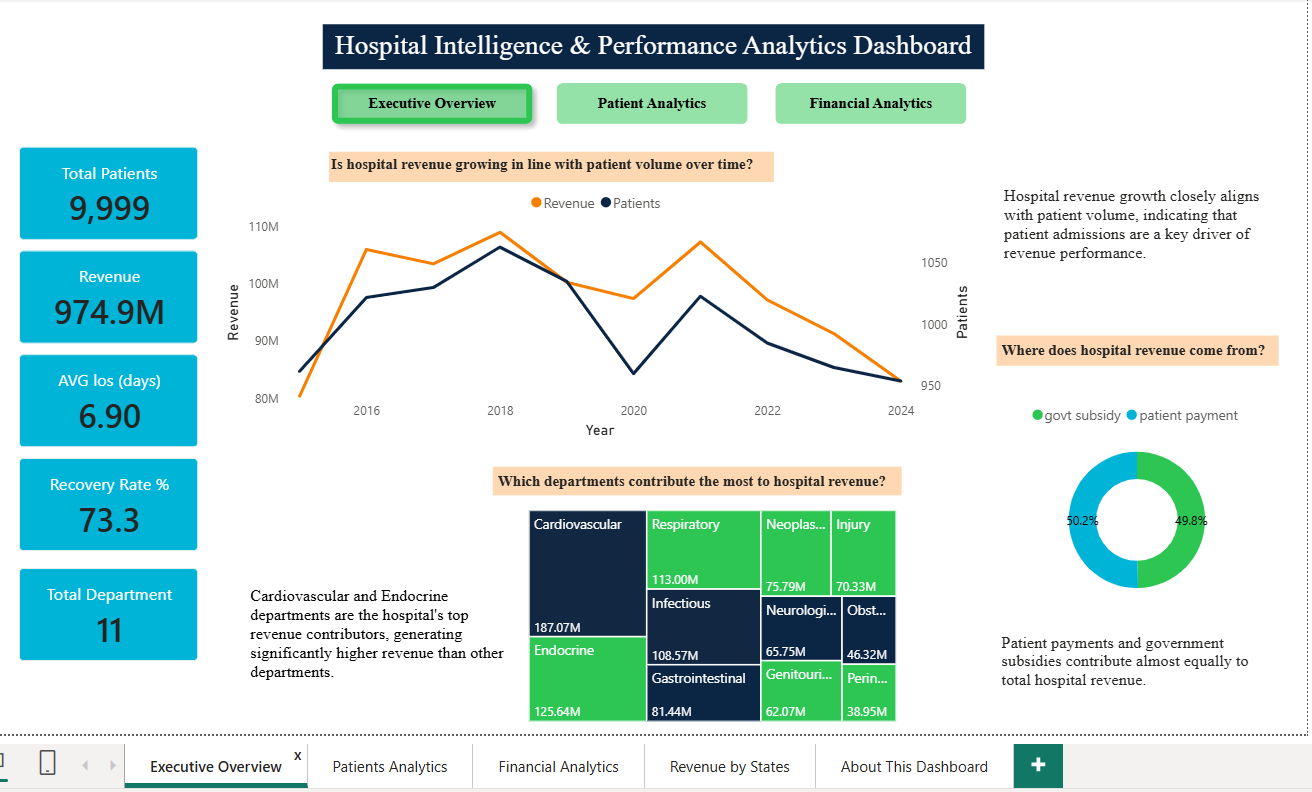

What the dashboard file says about the page in this screenshot:
{"tool":"powerbi","page":{"name":"Executive Overview","canvas":[1280,720],"ordinal":0},"visuals":[{"type":"textbox","box":[316.7,25.7,646.9,44],"z":0},{"type":"cardVisual","fields":{"Data":["public hospital_data.Total Patients"]},"box":[14.7,140.6,185.9,101.5],"z":1000},{"type":"cardVisual","fields":{"Data":["public hospital_data.Cost"]},"box":[14.7,242.1,185.9,101.5],"z":2000},{"type":"cardVisual","fields":{"Data":["Avg(public hospital_data.los_days)"]},"box":[14.7,343.6,185.9,101.5],"z":3000},{"type":"cardVisual","fields":{"Data":["public hospital_data.Recovery Rate %"]},"box":[14.7,445.1,185.9,101.5],"z":4000},{"type":"actionButton","box":[316.7,74.6,214,57.5],"z":5000},{"type":"actionButton","box":[545.4,83.2,187.1,40.4],"z":6000},{"type":"actionButton","box":[759.4,83.2,187.1,40.4],"z":7000},{"type":"lineChart","fields":{"Y":["Sum(public hospital_data.total_cost)"],"Category":["public hospital_data.admit_date.Variation.Date Hierarchy.Year"],"Y2":["public hospital_data.Total Patients"]},"box":[216.4,179.8,738.6,255.6],"z":8000},{"type":"textbox","box":[322.8,150.4,435.3,29.3],"z":9000},{"type":"treemap","fields":{"Group":["public hospital_data.department"],"Values":["public hospital_data.Cost"]},"box":[513.6,496.5,369.3,216.4],"z":10000},{"type":"textbox","box":[483,458.6,399.9,28.1],"z":11000},{"type":"donutChart","fields":{"Y":["Sum(public hospital_data.govt_subsidy)","Sum(public hospital_data.patient_payment)"]},"box":[963.6,387.6,299.6,216.4],"z":12000},{"type":"textbox","box":[975.8,330.2,276.4,29.3],"z":13000},{"type":"textbox","box":[975.8,616.3,276.4,84.4],"z":14000},{"type":"textbox","box":[978.3,179.8,273.9,85.6],"z":15000},{"type":"textbox","box":[240.9,571.1,260.5,114.9],"z":16000},{"type":"cardVisual","fields":{"Data":["public hospital_data.Total_Department"]},"box":[14.7,552.7,185.9,101.5],"z":17000}]}

Visuals, with their boxes on the page's 1280x720 design canvas (x1, y1, x2, y2). These are canvas units, not pixel positions in the 1312x792 screenshot, which may show the page scaled, cropped or inside an application window:
textbox: select_region(317, 26, 964, 70)
cardVisual - public hospital_data.Total Patients: select_region(15, 141, 201, 242)
cardVisual - public hospital_data.Cost: select_region(15, 242, 201, 344)
cardVisual - Avg(public hospital_data.los_days): select_region(15, 344, 201, 445)
cardVisual - public hospital_data.Recovery Rate %: select_region(15, 445, 201, 547)
actionButton: select_region(317, 75, 531, 132)
actionButton: select_region(545, 83, 732, 124)
actionButton: select_region(759, 83, 946, 124)
lineChart - Sum(public hospital_data.total_cost) x public hospital_data.admit_date.Variation.Date Hierarchy.Year: select_region(216, 180, 955, 435)
textbox: select_region(323, 150, 758, 180)
treemap - public hospital_data.department x public hospital_data.Cost: select_region(514, 496, 883, 713)
textbox: select_region(483, 459, 883, 487)
donutChart - Sum(public hospital_data.govt_subsidy) x Sum(public hospital_data.patient_payment): select_region(964, 388, 1263, 604)
textbox: select_region(976, 330, 1252, 360)
textbox: select_region(976, 616, 1252, 701)
textbox: select_region(978, 180, 1252, 265)
textbox: select_region(241, 571, 501, 686)
cardVisual - public hospital_data.Total_Department: select_region(15, 553, 201, 654)
